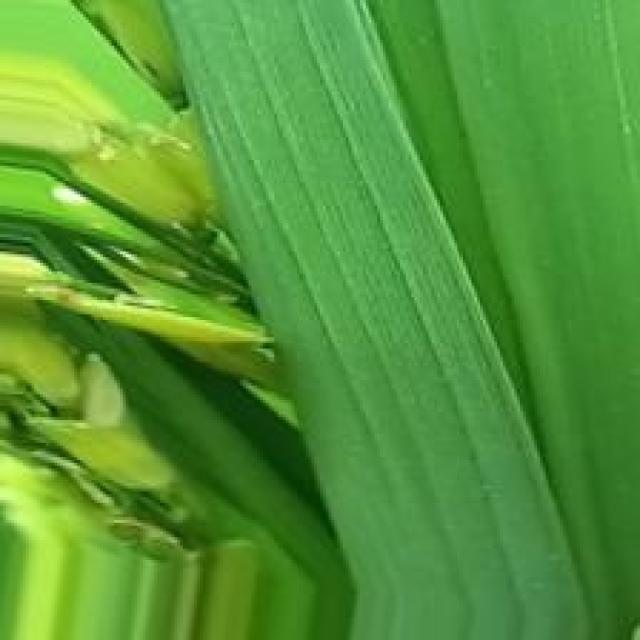HealthyLeaf: (164, 6, 587, 632), (378, 0, 640, 627)
